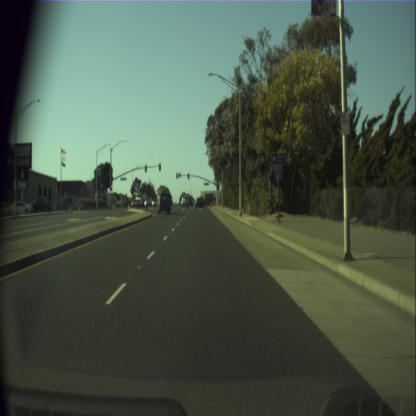Red: (176, 172, 178, 179)
